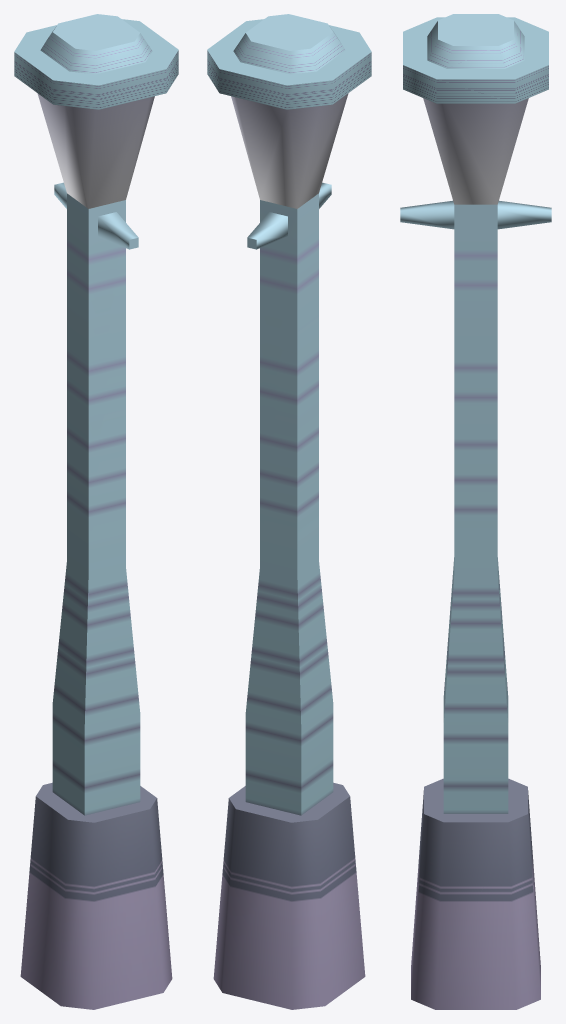
Rendered from lantern.glb.
3 views of the same model, side by side, from view 1: azimuth 30°, elevation 25°; view 2: azimuth 150°, elevation 25°; view 3: azimuth 270°, elevation 25° (orthographic).
Visible parts, largest first — view 1: lantern; view 2: lantern; view 3: lantern.
Part boxes in pixels (x1,y1,x2,y2): lantern: (14,14,178,1009); lantern: (207,14,371,1009); lantern: (400,14,551,1009).
Size of the model in its own units: 0.2163 by 1.56 by 0.2243.
Materials: 1 (1 with a texture image).
